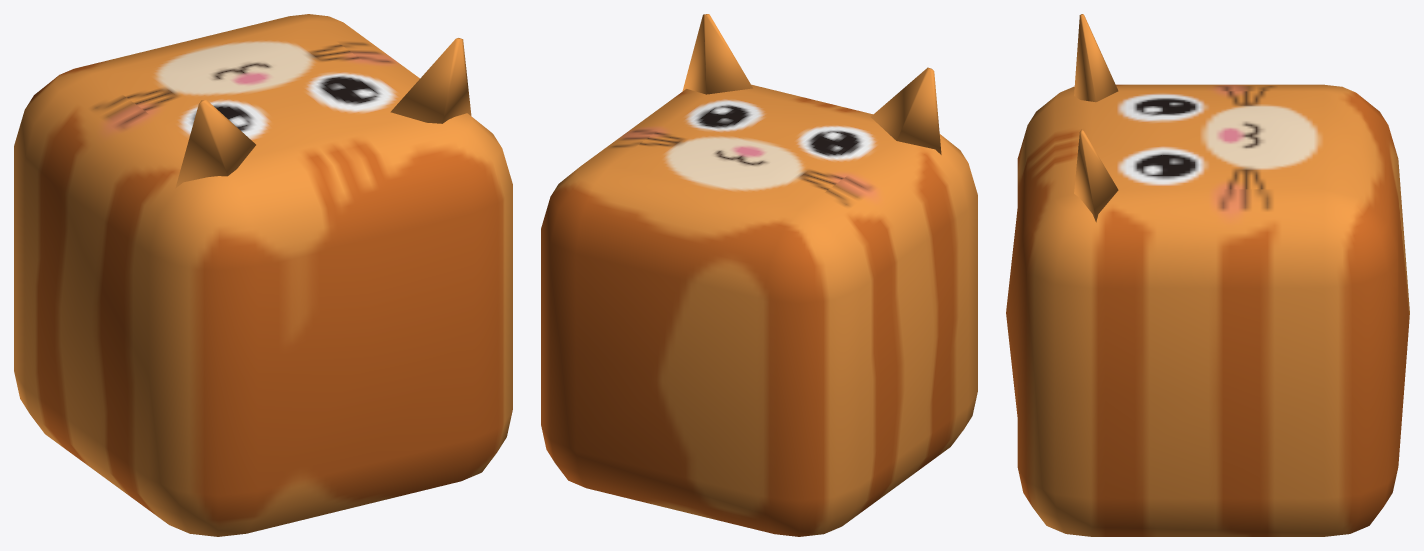
Rendered from Cat_1x1.fbx.
3 views of the same model, side by side, from view 1: azimuth 30°, elevation 25°; view 2: azimuth 150°, elevation 25°; view 3: azimuth 270°, elevation 25° (orthographic). The views are drawn at different scales.
Parts seen in each view (by area): view 1: Cat_1x1; view 2: Cat_1x1; view 3: Cat_1x1.
Part boxes in pixels (<box>): Cat_1x1: <box>14,14,512,536</box>; Cat_1x1: <box>541,14,977,536</box>; Cat_1x1: <box>1006,14,1409,536</box>.
Bounding box in the file's own units: 0.976 × 1.05 × 0.976.
Materials: 1 (1 with a texture image).
